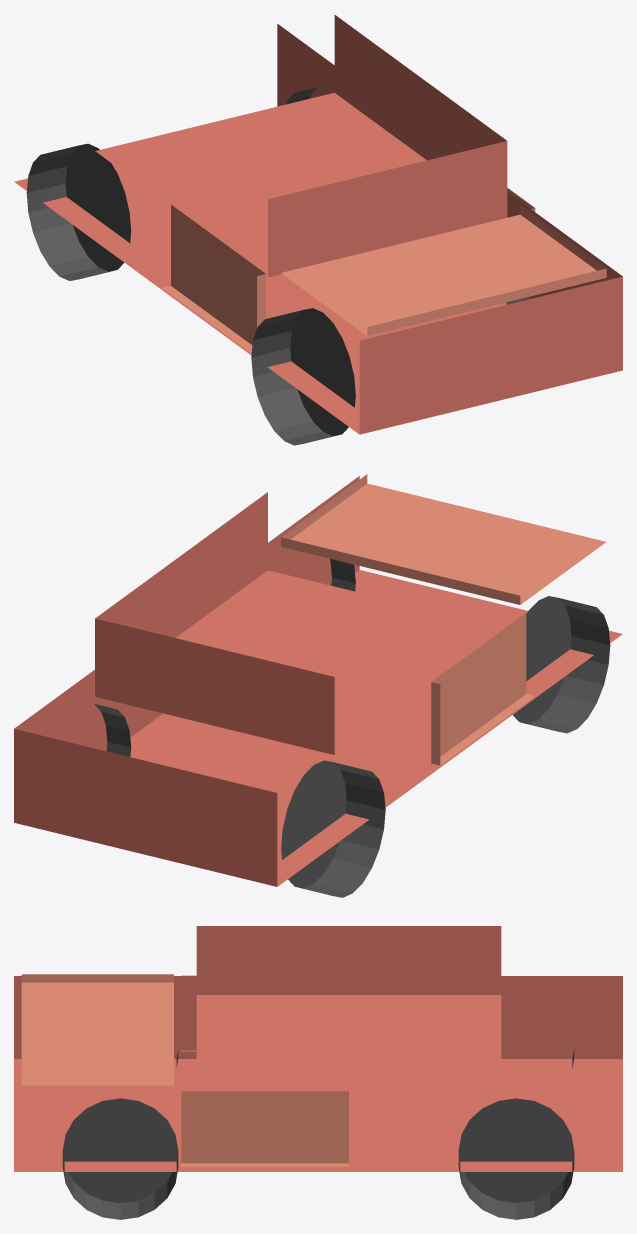
Rendered from car_doors.glb.
The picture shows the model from 3 angles, top to bottom: view 1: azimuth 30°, elevation 25°; view 2: azimuth 150°, elevation 25°; view 3: azimuth 270°, elevation 25°; orthographic projection. The views are drawn at different scales.
Visible parts, largest first — view 1: Body, Hood, Wheel (×2), Door_R; view 2: Body, Hood, Wheel (×4), Door_R; view 3: Body, Wheel (×2), Hood, Door_L.
Part boxes in pixels (x1=…): Body: x1=14, y1=15, x2=622, y2=434; Hood: x1=281, y1=205, x2=606, y2=336; Wheel (×2): x1=26, y1=143, x2=355, y2=445; Door_R: x1=162, y1=204, x2=265, y2=353; Body: x1=14, y1=476, x2=622, y2=886; Hood: x1=281, y1=474, x2=605, y2=604; Wheel (×4): x1=94, y1=558, x2=610, y2=897; Door_R: x1=431, y1=613, x2=534, y2=765; Body: x1=14, y1=926, x2=622, y2=1171; Wheel (×2): x1=62, y1=1098, x2=574, y2=1219; Hood: x1=21, y1=974, x2=173, y2=1085; Door_L: x1=181, y1=1091, x2=348, y2=1166.
Size of the model in its own units: 1.96 by 1.3 by 4.
